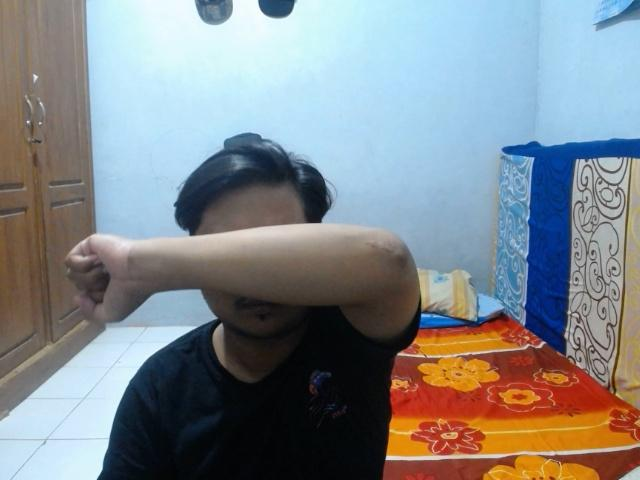Grab: (58, 227, 158, 327)
